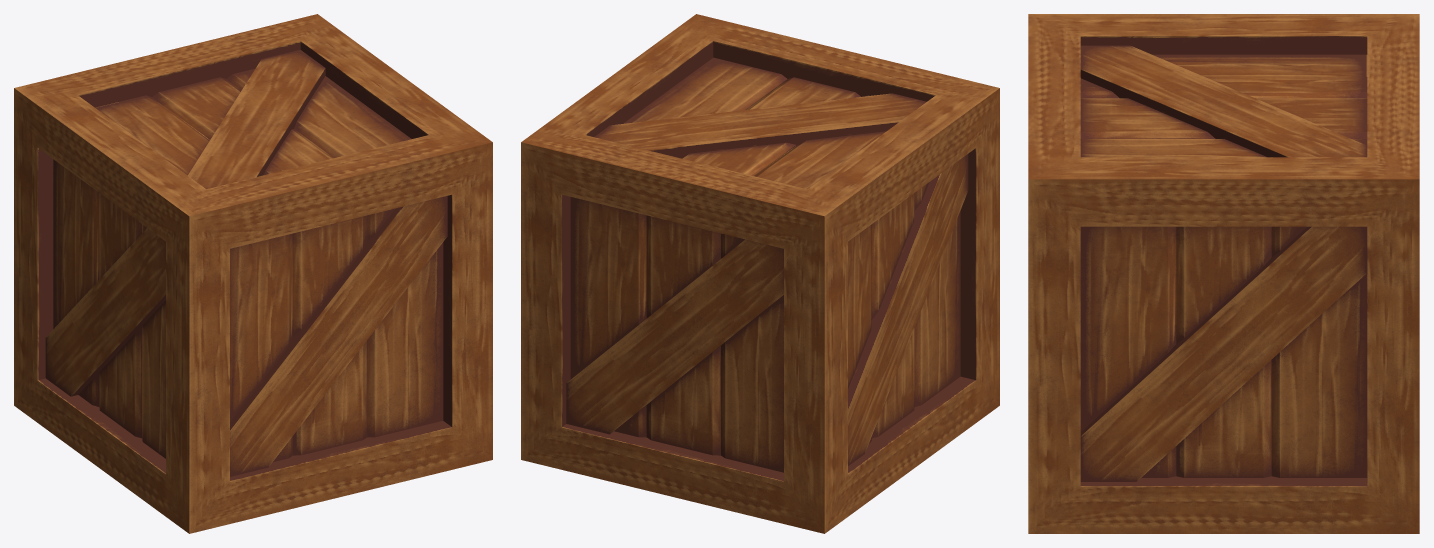
File: crate.fbx
3 views of the same model, side by side, from view 1: azimuth 30°, elevation 25°; view 2: azimuth 150°, elevation 25°; view 3: azimuth 270°, elevation 25° (orthographic). The views are drawn at different scales.
Visible parts, largest first — view 1: Cube.002, Cube.007, Cube.009; view 2: Cube.003, Cube.007, Cube.009; view 3: Cube.001, Cube.009.
Boxes of the visible parts, x1,y1,x2,y2 form: Cube.002: [189, 142, 492, 533]; Cube.007: [14, 88, 189, 533]; Cube.009: [14, 14, 492, 216]; Cube.003: [521, 142, 824, 533]; Cube.007: [824, 88, 999, 533]; Cube.009: [521, 14, 999, 216]; Cube.001: [1028, 179, 1419, 533]; Cube.009: [1028, 14, 1419, 179].
Size of the model in its own units: 100 by 100 by 100.
1 material, 1 textured.
